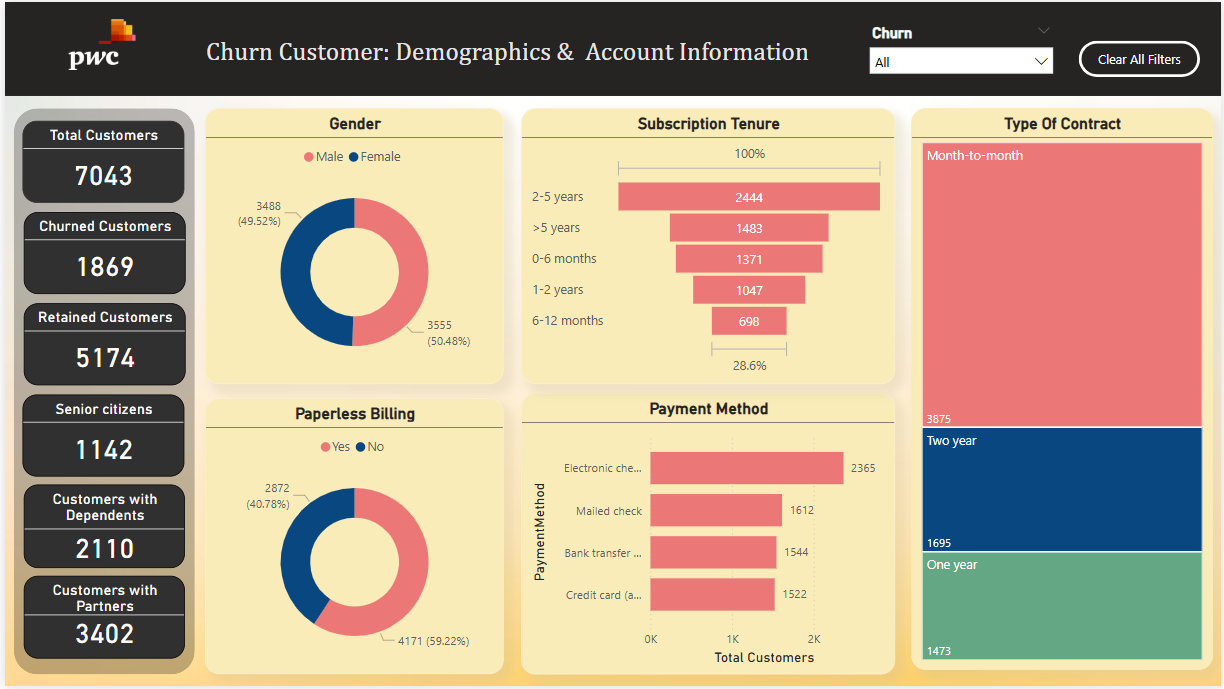

What the dashboard file says about the page in this screenshot:
{"tool":"powerbi","page":{"name":"Demographics & Customer account Info","canvas":[1280,720],"ordinal":0},"visuals":[{"type":"shape","box":[9.2,111.8,190.8,596.1],"z":0,"group":"g1"},{"type":"shape","box":[0,0,1280,98.9],"z":1000},{"type":"card","title":"Total Customers","fields":{"Values":["01 Churn-Dataset.Total Customer"]},"box":[19,124.9,170.1,86.7],"z":2000,"group":"g1"},{"type":"donutChart","title":"Gender","fields":{"Category":["01 Churn-Dataset.gender"],"Y":["CountNonNull(01 Churn-Dataset.customerID)"]},"box":[210.5,111.8,314.5,290.8],"z":3000},{"type":"card","title":"Churned Customers","fields":{"Values":["01 Churn-Dataset.Churned Customer"]},"box":[19.3,220.7,170.1,86.7],"z":4000,"group":"g1"},{"type":"card","title":"Retained Customers","fields":{"Values":["01 Churn-Dataset.Retained Customers"]},"box":[19.3,316.6,170.1,86.7],"z":5000,"group":"g1"},{"type":"clusteredBarChart","title":" Payment Method","fields":{"Y":[" Churn Dataset.Total Customers"],"Category":[" Churn Dataset.PaymentMethod"]},"box":[543.4,411.8,393.4,296.1],"z":6000},{"type":"treemap","title":"Type Of Contract","fields":{"Group":[" Churn Dataset.Contract"],"Values":[" Churn Dataset.Total Customers"]},"box":[954.3,112.2,317.3,591.2],"z":7000},{"type":"funnel","title":"Subscription Tenure","fields":{"Category":[" Churn Dataset.Tenure Range"],"Y":[" Churn Dataset.Total Customers"]},"box":[543.4,111.8,393.4,290.8],"z":8000},{"type":"card","title":"Customers with Partners","fields":{"Values":[" Churn Dataset.Customer by Partner"]},"box":[19.7,604.5,169.7,87],"z":9000,"group":"g1"},{"type":"card","title":"Customers with Dependents","fields":{"Values":[" Churn Dataset.Dependents card"]},"box":[19.7,507.9,169.7,88.2],"z":10000,"group":"g1"},{"type":"card","title":"Senior citizens","fields":{"Values":[" Churn Dataset.Senior citizen count"]},"box":[19,412.5,170.1,86.7],"z":11000,"group":"g1"},{"type":"donutChart","title":" Paperless Billing","fields":{"Y":[" Churn Dataset.Total Customers"],"Category":[" Churn Dataset.PaperlessBilling"]},"box":[210.5,417.1,314.5,290.8],"z":12000},{"type":"textbox","box":[206.6,30.3,661.8,50],"z":13000},{"type":"slicer","fields":{"Values":[" Churn Dataset.Churn"]},"box":[900,18.4,213.2,60.5],"z":15000},{"type":"image","box":[34,13,136,63],"z":16000},{"type":"group","id":"g1","title":"Group 1","box":[9.2,111.8,190.8,596.1],"z":16001},{"type":"actionButton","box":[1130.3,40.8,127.6,38.2],"z":16002}]}

Visuals, with their boxes in screenshot pixels (x1, y1, x2, y2), scaled from the page's 1280x720 canvas onto the 1224x689 screenshot:
shape: 9/107/191/677
shape: 0/0/1223/95
"Total Customers" card: 18/120/181/202
"Gender" donutChart: 201/107/502/385
"Churned Customers" card: 18/211/181/294
"Retained Customers" card: 18/303/181/386
" Payment Method" clusteredBarChart: 520/394/896/677
"Type Of Contract" treemap: 913/107/1216/673
"Subscription Tenure" funnel: 520/107/896/385
"Customers with Partners" card: 19/578/181/662
"Customers with Dependents" card: 19/486/181/570
"Senior citizens" card: 18/395/181/478
" Paperless Billing" donutChart: 201/399/502/677
textbox: 198/29/830/77
slicer -  Churn Dataset.Churn: 861/18/1064/76
image: 33/12/163/73
"Group 1" group: 9/107/191/677
actionButton: 1081/39/1203/76
